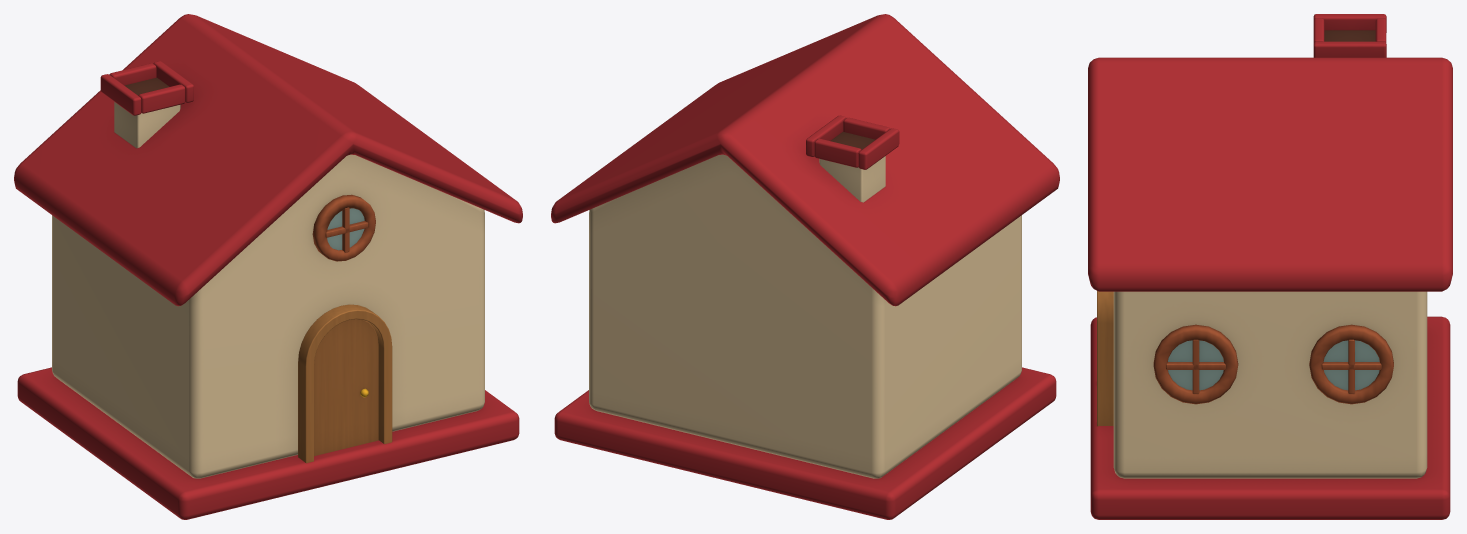
Rendered from house.fbx.
3 renders of one model, left to right at view 1: azimuth 30°, elevation 25°; view 2: azimuth 150°, elevation 25°; view 3: azimuth 270°, elevation 25°, orthographic. The views are drawn at different scales.
Visible parts, largest first — view 1: house; view 2: house; view 3: house.
Boxes of the visible parts, left/top/right/bottom form: house: left=14, top=14, right=522, bottom=519; house: left=551, top=14, right=1059, bottom=519; house: left=1088, top=14, right=1452, bottom=519.
Bounding box in the file's own units: 2600 × 2489 × 2200.
Materials: 1 (1 with a texture image).
